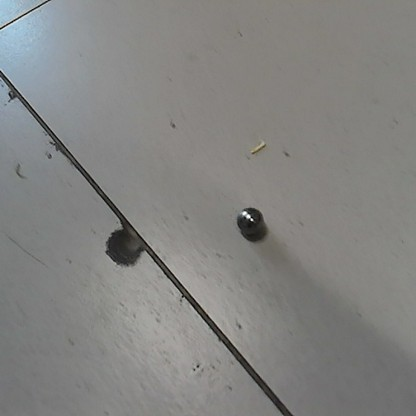ironball: (234, 206, 264, 239)
